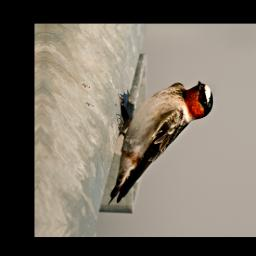Swallow: (107, 75, 216, 211)
